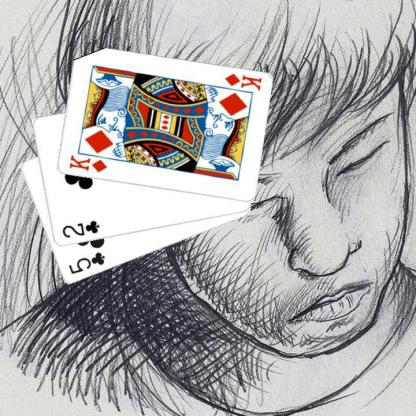2C: (59, 218, 100, 240)
5C: (66, 250, 106, 276)
KD: (66, 152, 108, 174), (222, 71, 263, 92)
